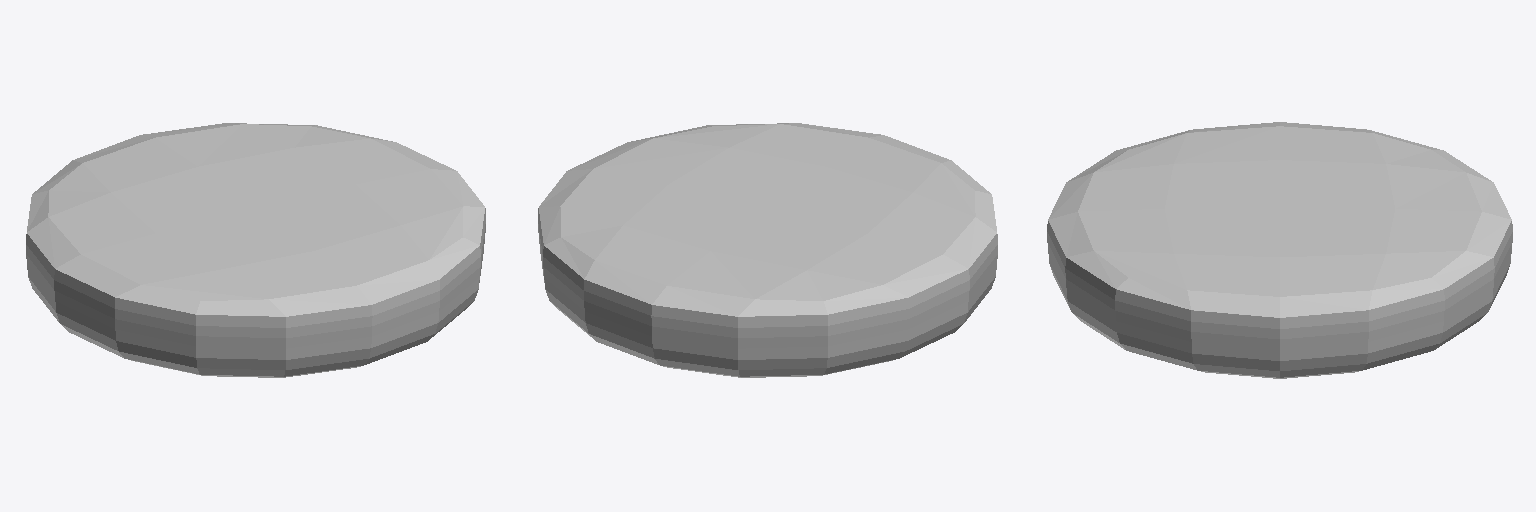
The model's file is Bun_bot_v05.obj.
3 views of the same model, side by side, from view 1: azimuth 30°, elevation 25°; view 2: azimuth 150°, elevation 25°; view 3: azimuth 270°, elevation 25° (orthographic).
Parts seen in each view (by area): view 1: bun_bot_v05; view 2: bun_bot_v05; view 3: bun_bot_v05.
Boxes of the visible parts, <box> form: bun_bot_v05: <box>26,123,485,377</box>; bun_bot_v05: <box>538,123,997,377</box>; bun_bot_v05: <box>1047,122,1512,378</box>.
Size of the model in its own units: 27.22 by 6.07 by 27.22.